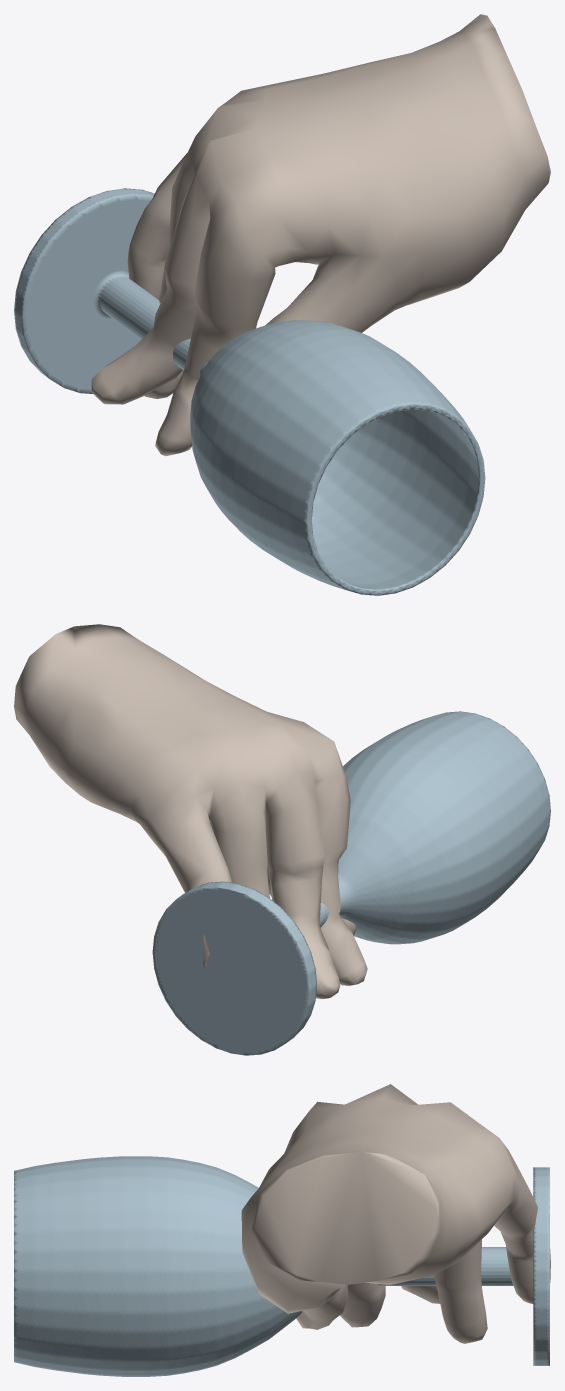
Rendered from pred_11.glb.
3 views of the same model, one above another, from view 1: azimuth 30°, elevation 25°; view 2: azimuth 150°, elevation 25°; view 3: azimuth 270°, elevation 25° (orthographic). The views are drawn at different scales.
Size of the model in its own units: 0.1474 by 0.1222 by 0.1723.
